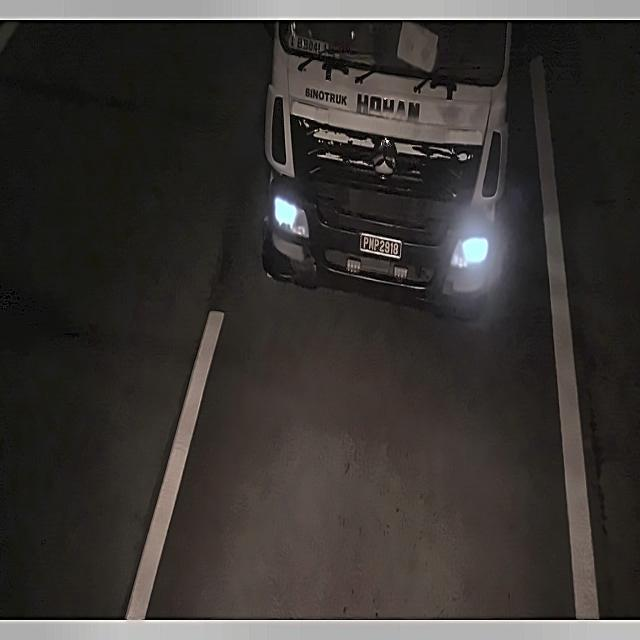car: (356, 222, 411, 264)
